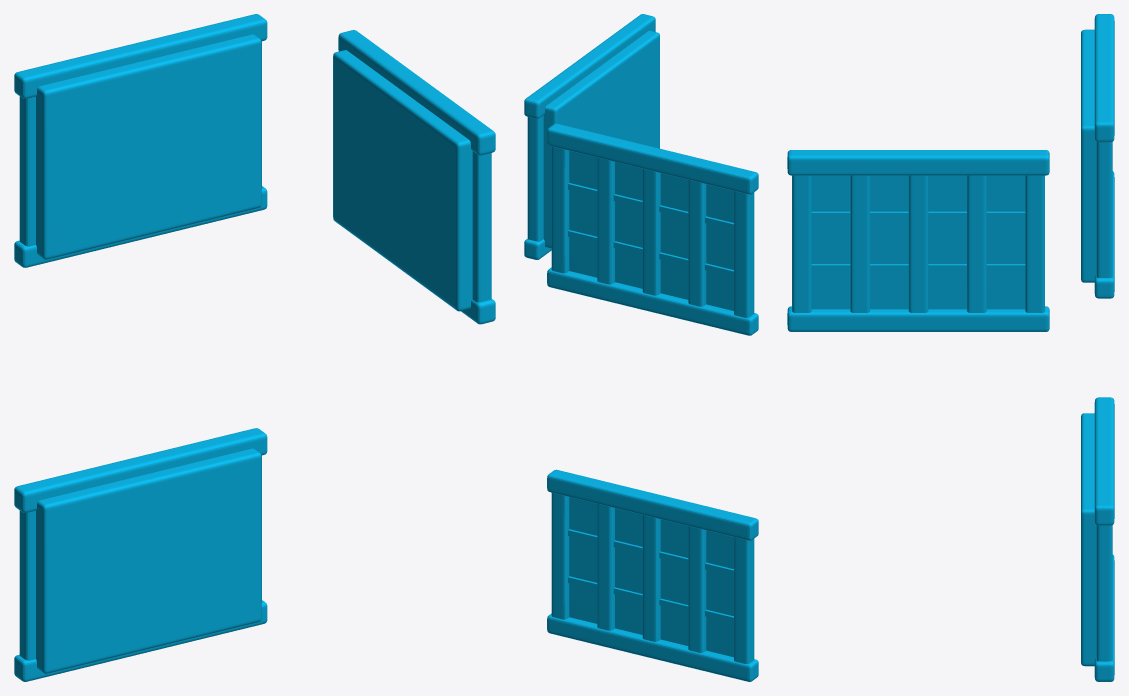
File: SM_Wood_Window_07.fbx
The picture shows the model from 3 angles, left to right: view 1: azimuth 30°, elevation 25°; view 2: azimuth 150°, elevation 25°; view 3: azimuth 270°, elevation 25°; orthographic projection. The views are drawn at different scales.
Parts seen in each view (by area): view 1: SM_Wood_Window_07; view 2: SM_Wood_Window_07; view 3: SM_Wood_Window_07.
Boxes of the visible parts, bbox=[...] form: SM_Wood_Window_07: bbox=[14, 14, 495, 681]; SM_Wood_Window_07: bbox=[524, 14, 758, 681]; SM_Wood_Window_07: bbox=[787, 14, 1114, 681].
Size of the model in its own units: 1.94 by 3.65 by 1.93.
